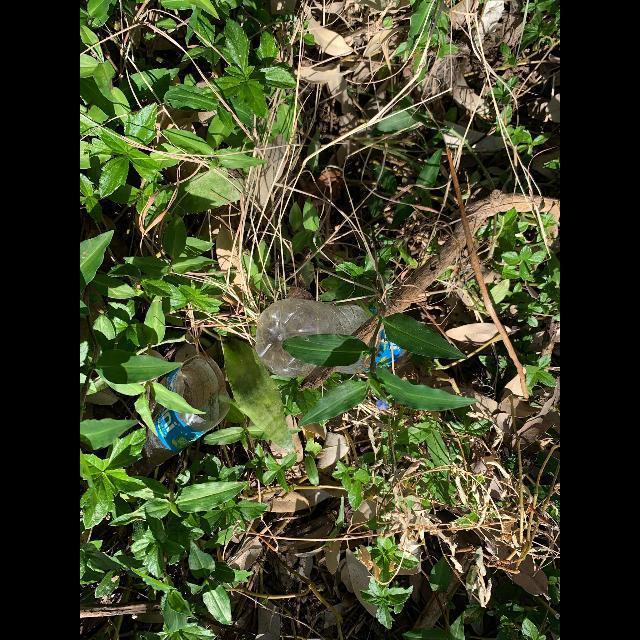Plastic: (127, 355, 231, 475), (255, 298, 407, 378)
